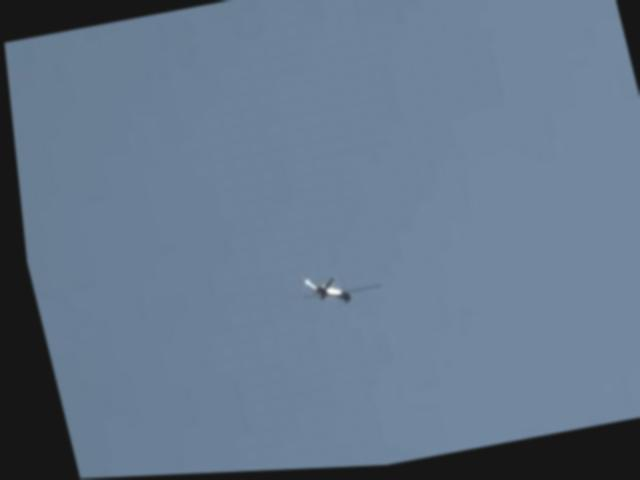uav: (279, 254, 386, 322)
